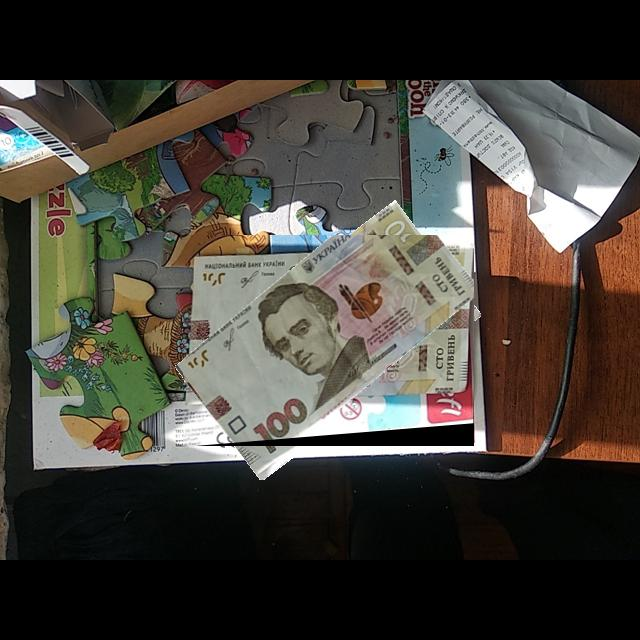100uah: (183, 235, 475, 447)
